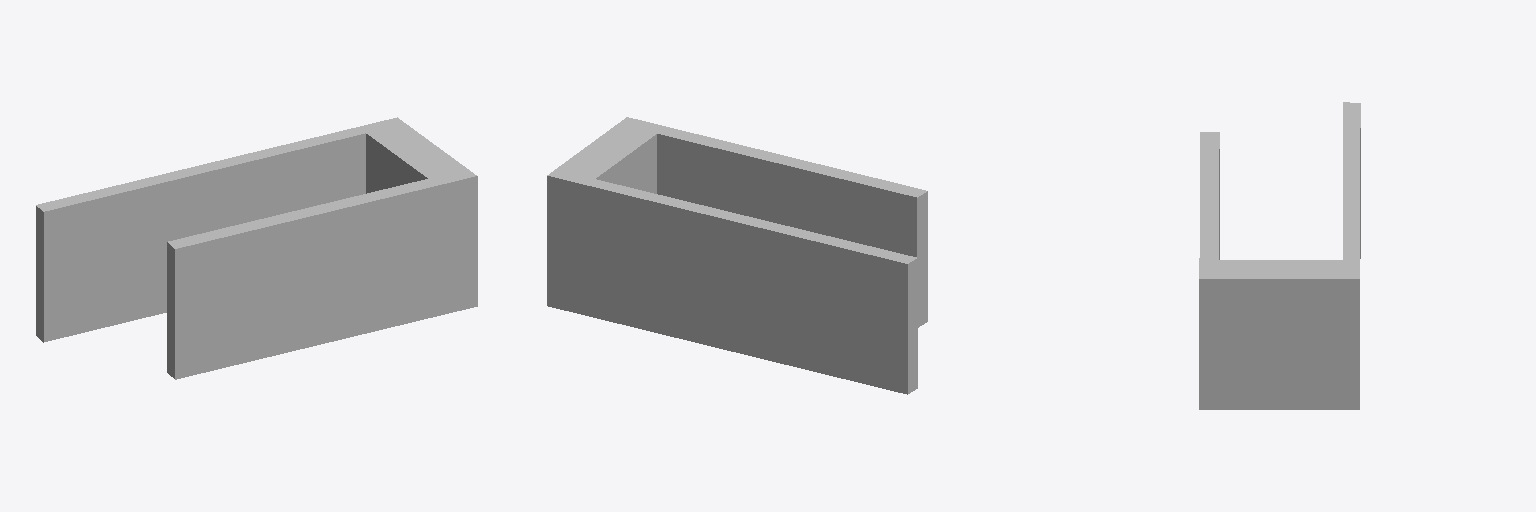
Rendered from bright_106.obj.
3 renders of one model, left to right at view 1: azimuth 30°, elevation 25°; view 2: azimuth 150°, elevation 25°; view 3: azimuth 270°, elevation 25°, orthographic.
Parts seen in each view (by area): view 1: polySurface12; view 2: polySurface12; view 3: polySurface12.
Boxes of the visible parts, <box> form: polySurface12: <box>36,117,477,379</box>; polySurface12: <box>547,117,927,394</box>; polySurface12: <box>1199,102,1360,409</box>.
Bounding box in the file's own units: 61.22 × 21.09 × 23.6.